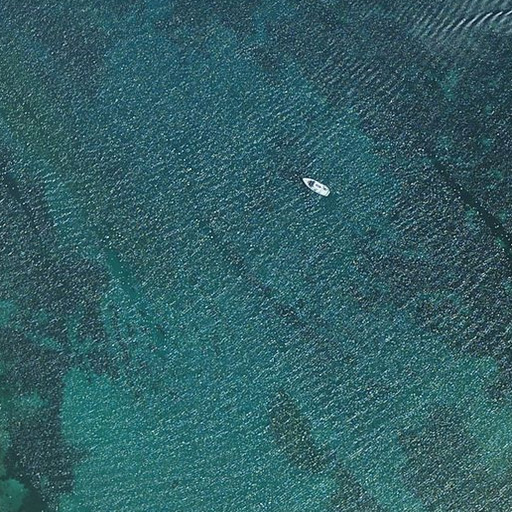ship: (299, 175, 332, 200)
